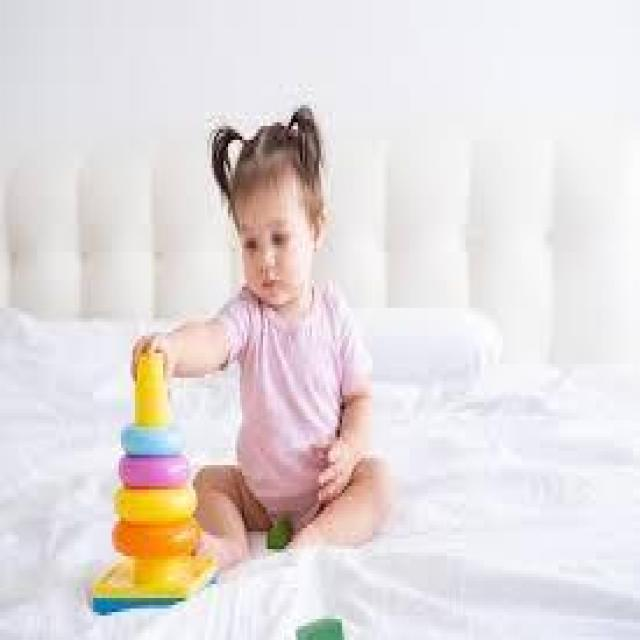child: (89, 98, 403, 612)
